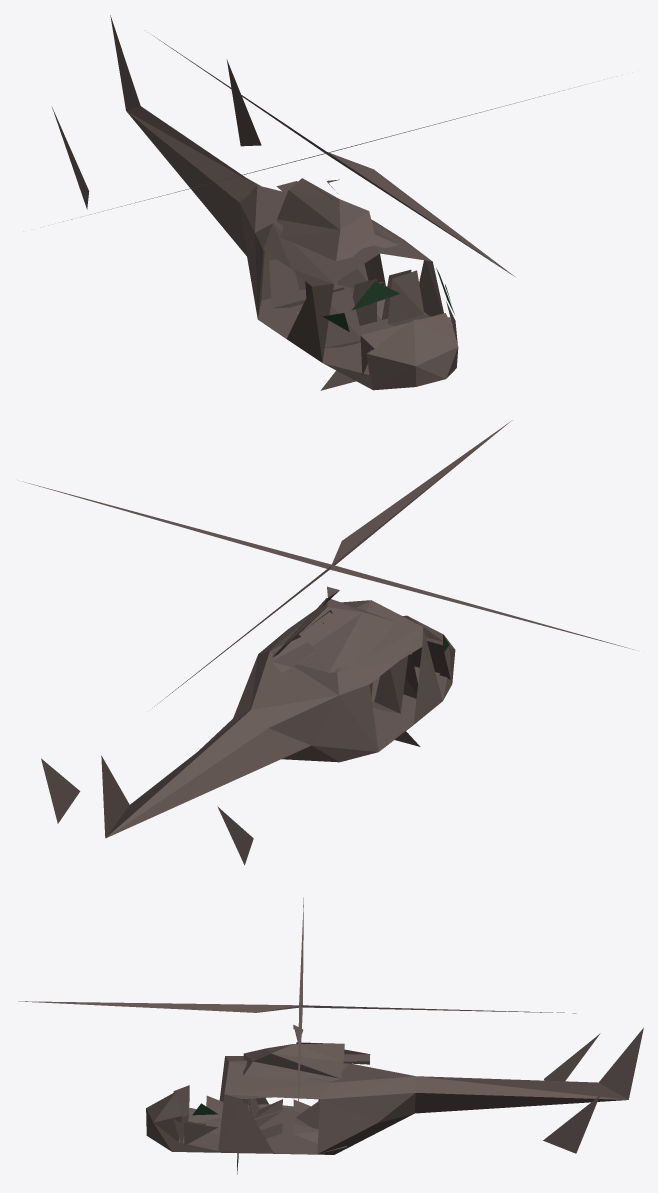
File: bw-police-heli.lod2.glb
3 views of the same model, one above another, from view 1: azimuth 30°, elevation 25°; view 2: azimuth 150°, elevation 25°; view 3: azimuth 270°, elevation 25° (orthographic). The views are drawn at different scales.
Visible parts, largest first — view 1: Object_6; view 2: Object_6; view 3: Object_6.
Boxes of the visible parts, bbox=[...] form: Object_6: bbox=[52, 15, 579, 390]; Object_6: bbox=[23, 420, 634, 865]; Object_6: bbox=[18, 897, 643, 1174].
Bounding box in the file's own units: 11.08 × 3.47 × 12.49.
